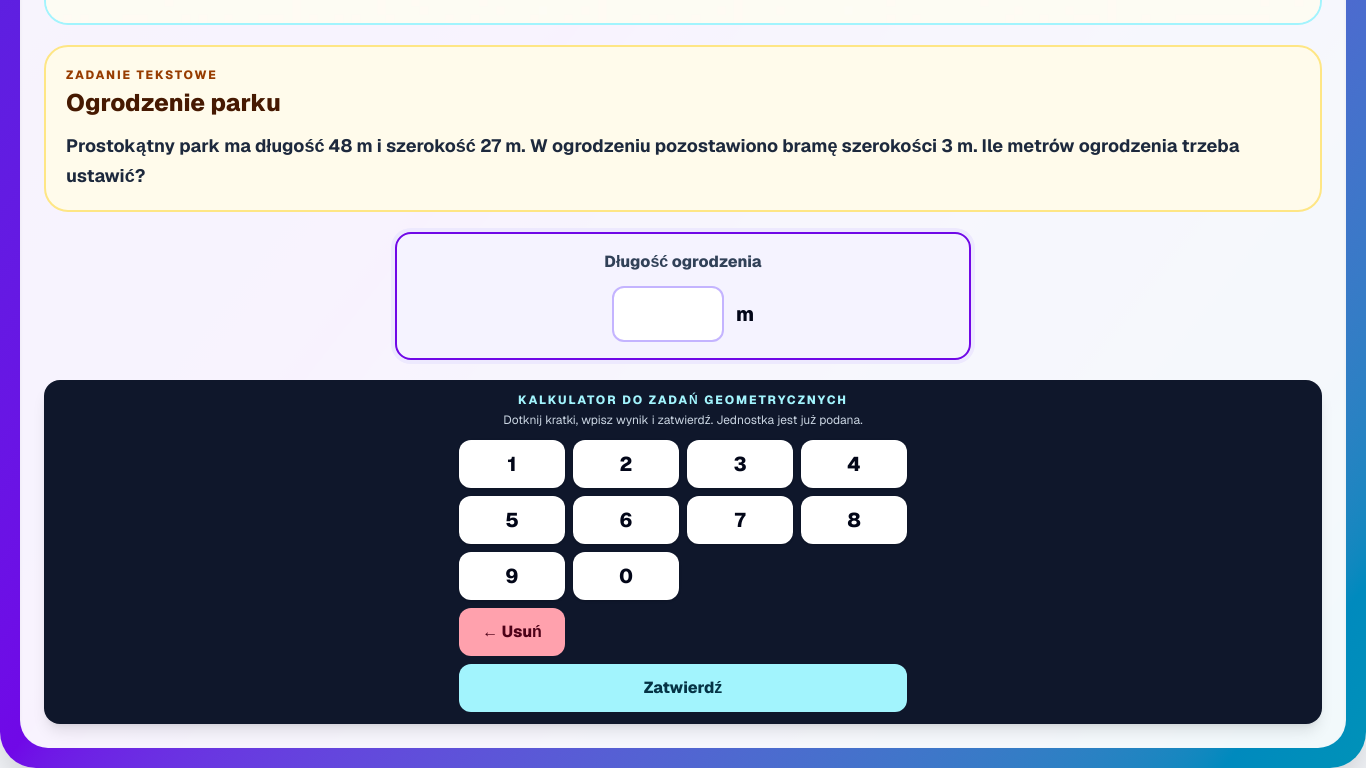
Test case: Powtórzenie figur na płaszczyźnie › blokuje puste zadanie i używa wyłącznie klawiatury lekcji
The width and height of the screenshot is (1366, 768).
(page scrolled)
Click the button "Zatwierdź".
click(683, 688)  # box x1=459 y1=664 x2=907 y2=712
(page scrolled)
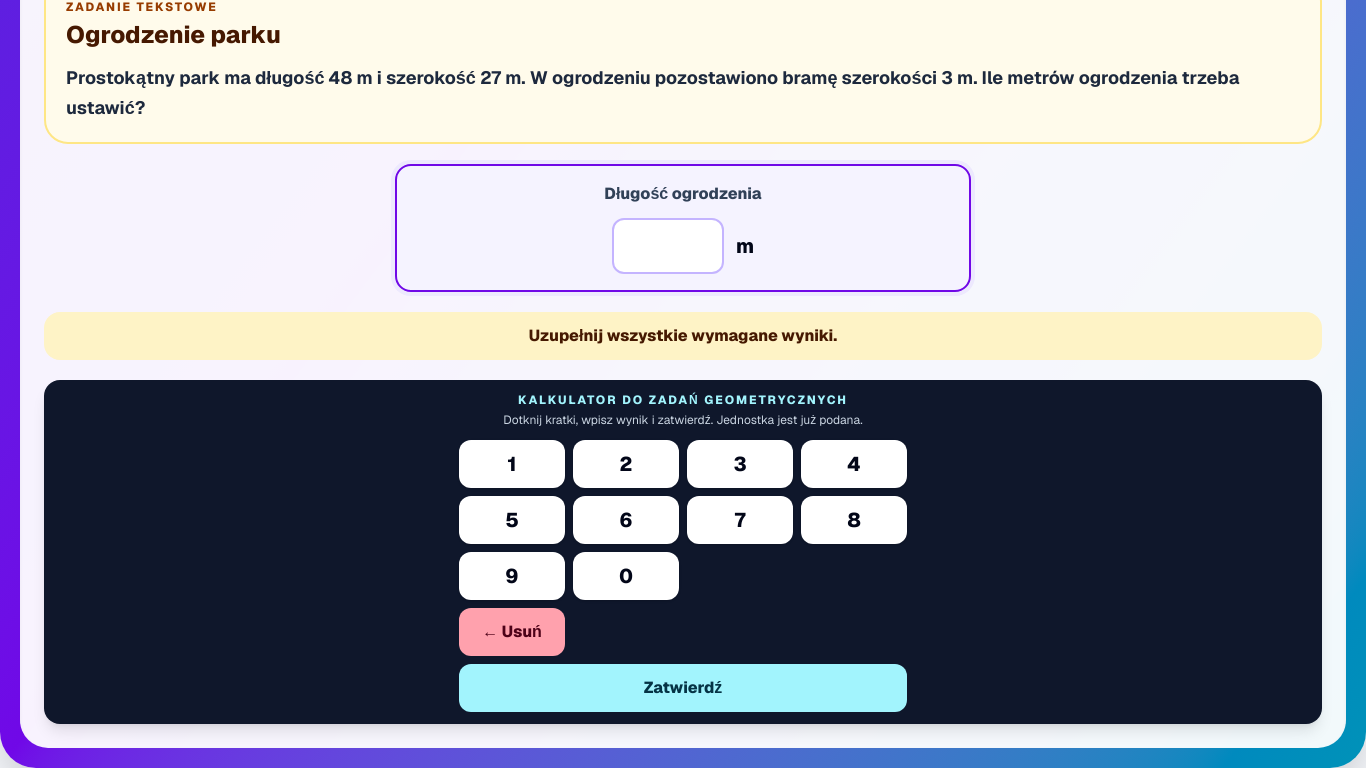
Result: the message shows "Uzupełnij wszystkie wymagane wyniki" at x1=529 y1=325 x2=837 y2=346
